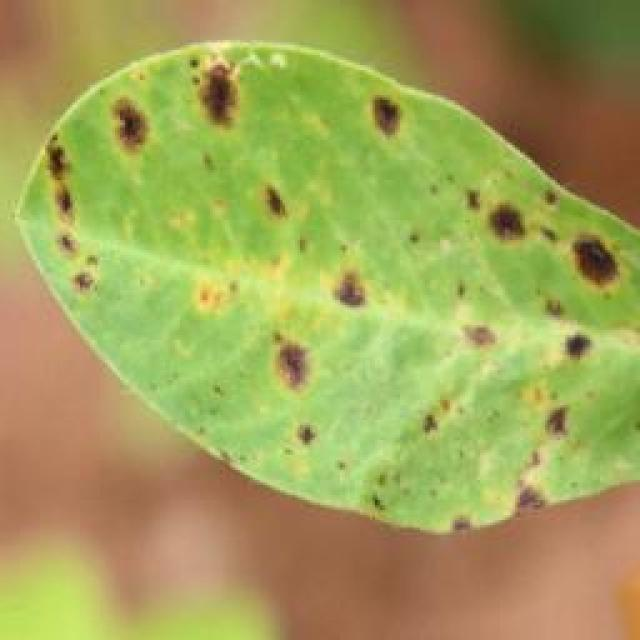Yellowish: (6, 43, 620, 527)
